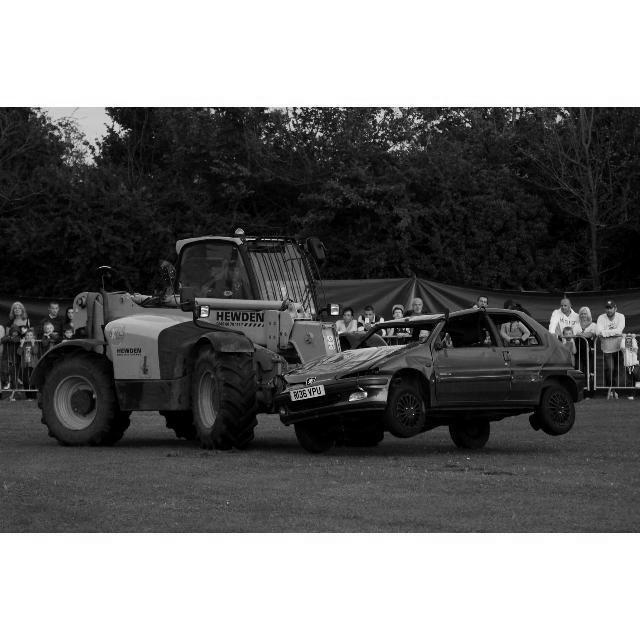bonnet-dent: (289, 338, 406, 382)
doorouter-dent: (511, 347, 548, 395)
front-bumper-dent: (281, 384, 368, 414)
quaterpanel-dent: (549, 339, 573, 375)
roof-dent: (393, 307, 494, 321)
